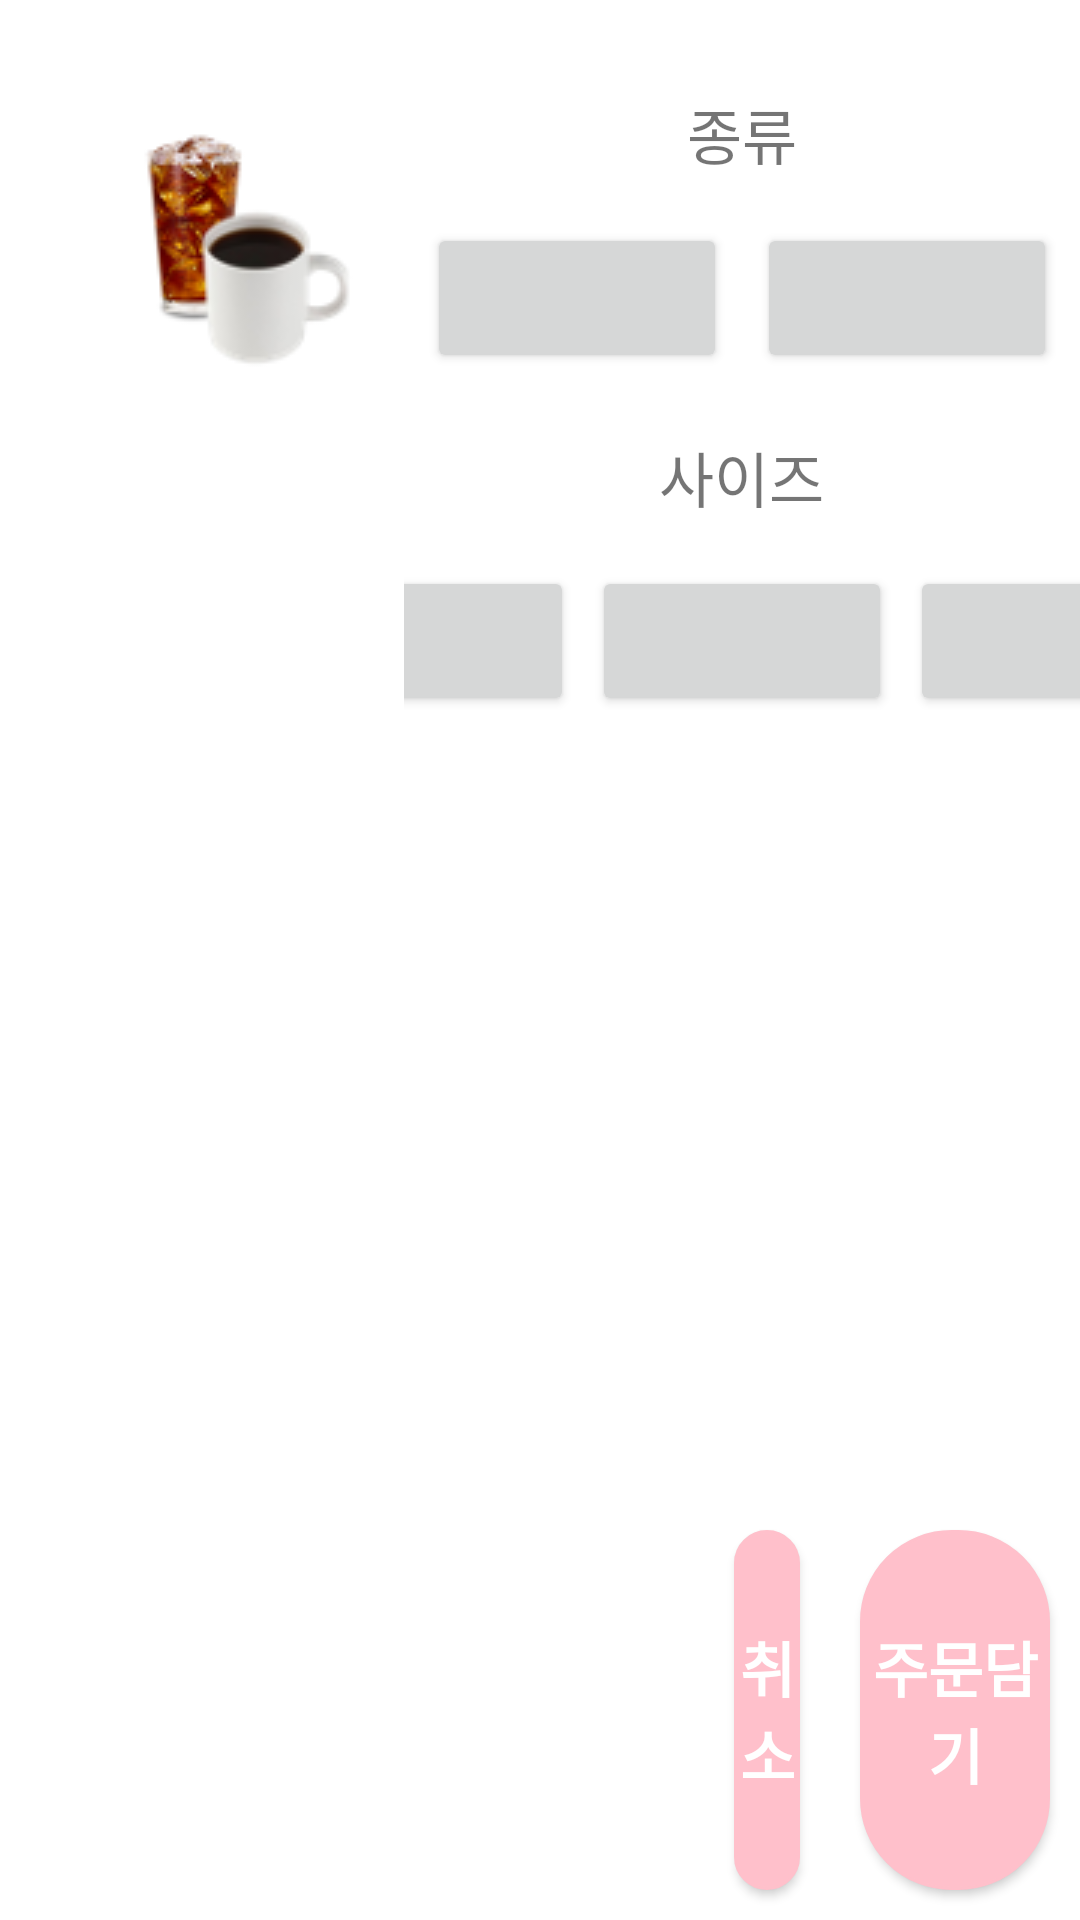

Where icons sit on this 1080px x 1920px app screen, as (x1, y1, x2, y2):
americano: (147, 135, 347, 362)
